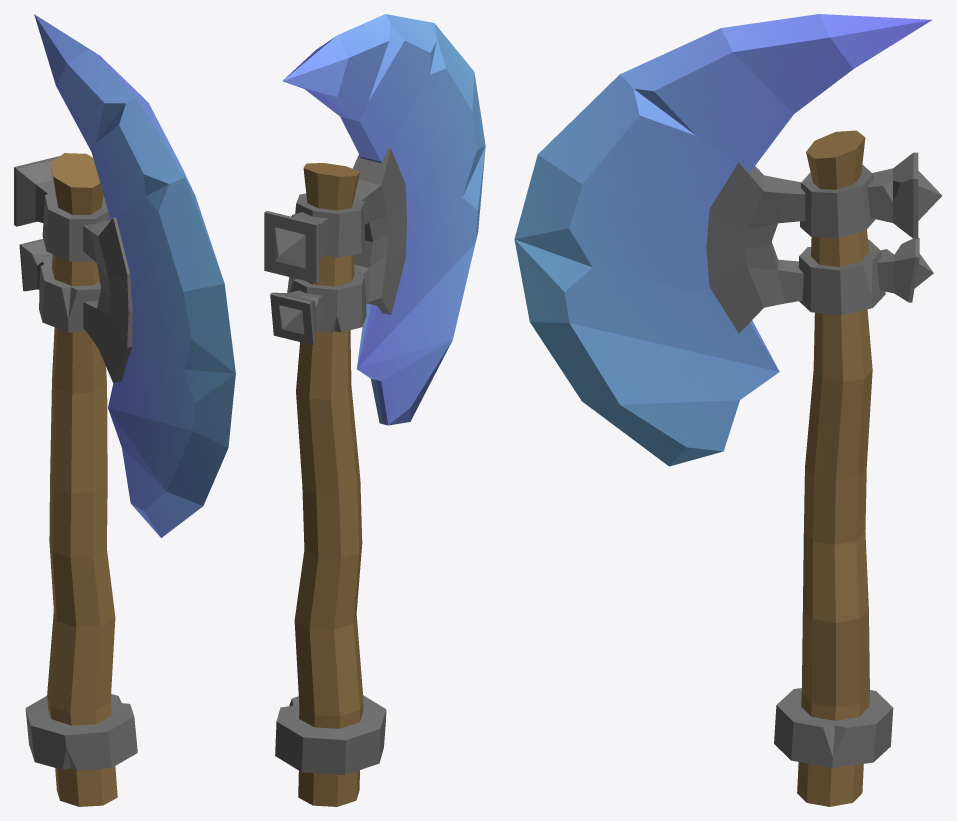
The model's file is axe.fbx.
3 views of the same model, side by side, from view 1: azimuth 30°, elevation 25°; view 2: azimuth 150°, elevation 25°; view 3: azimuth 270°, elevation 25° (orthographic). The views are drawn at different scales.
Visible parts, largest first — view 1: Axe; view 2: Axe; view 3: Axe.
Boxes of the visible parts, x1,y1,x2,y2 form: Axe: (14, 14, 235, 806); Axe: (264, 14, 485, 806); Axe: (514, 14, 942, 806).
Bounding box in the file's own units: 5.89 × 42.2 × 21.06.
